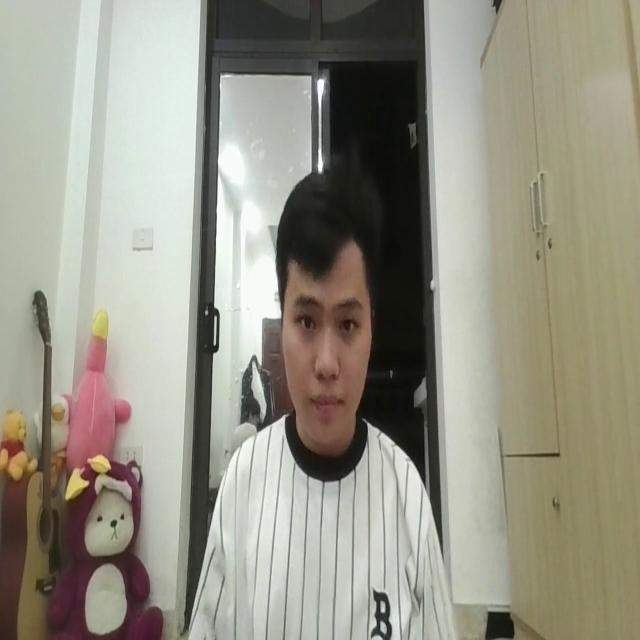student: (176, 162, 458, 640)
